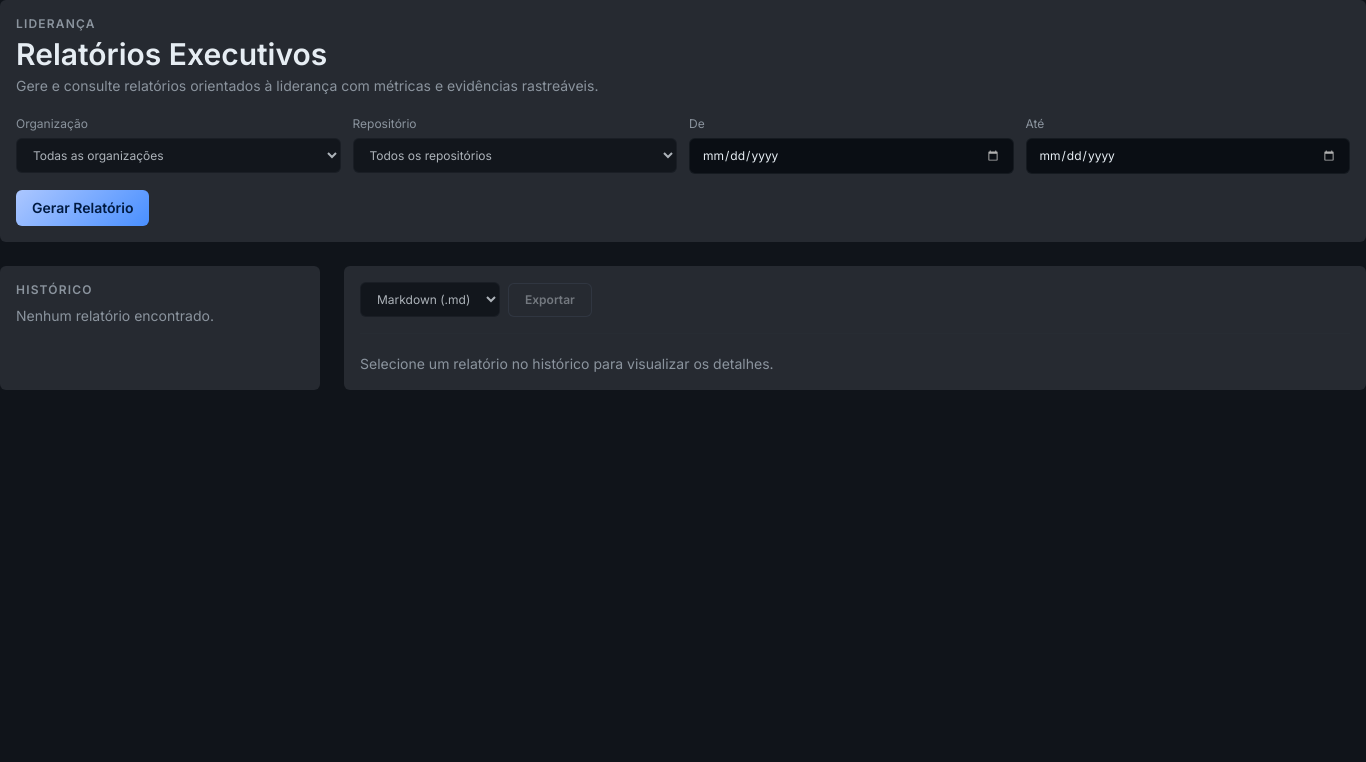
ReportsPage › re-enables generate button when job succeeds with reportId
This screenshot has width=1366, height=762.
Step 1. Click the button "Gerar Relatório" → (83, 208), box [16,190,149,226]
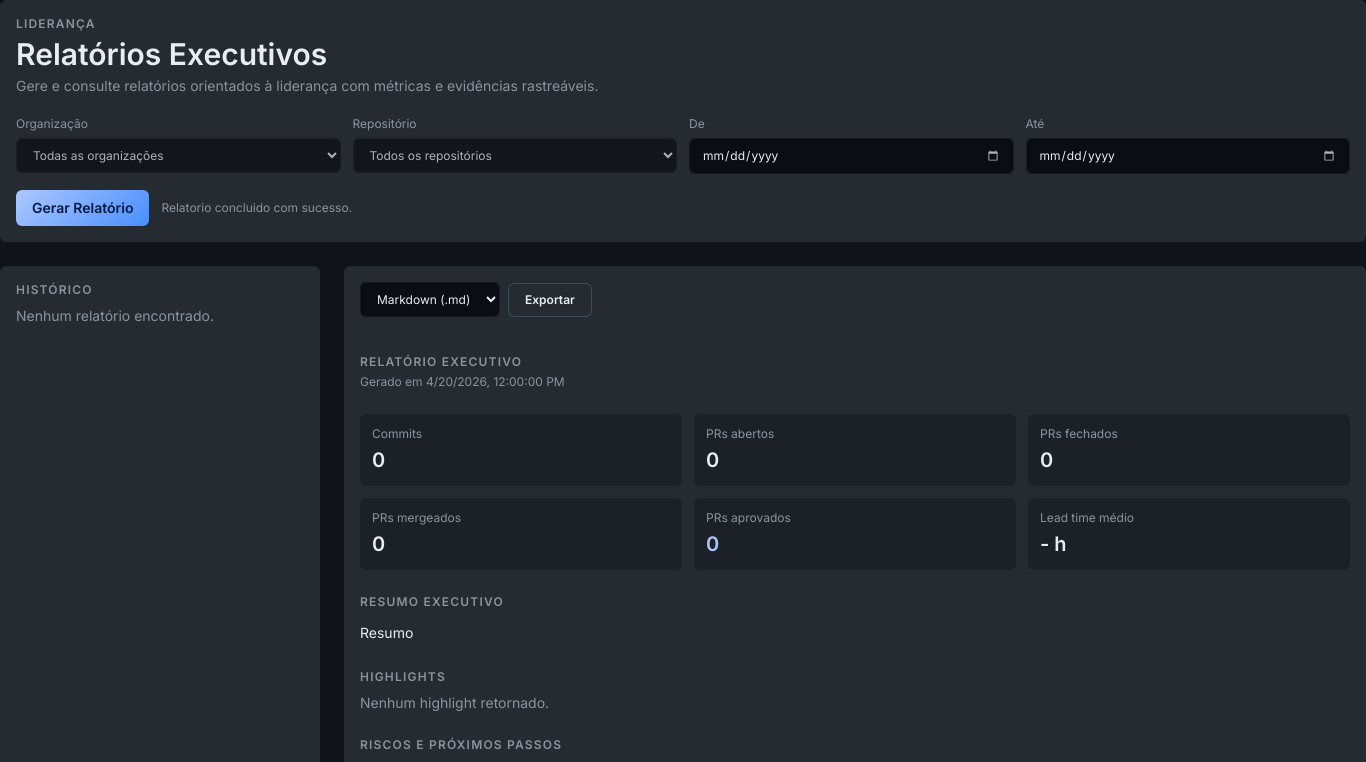
Check: the text "Relatorio concluido com sucesso." is shown, box [161,200,352,216]
